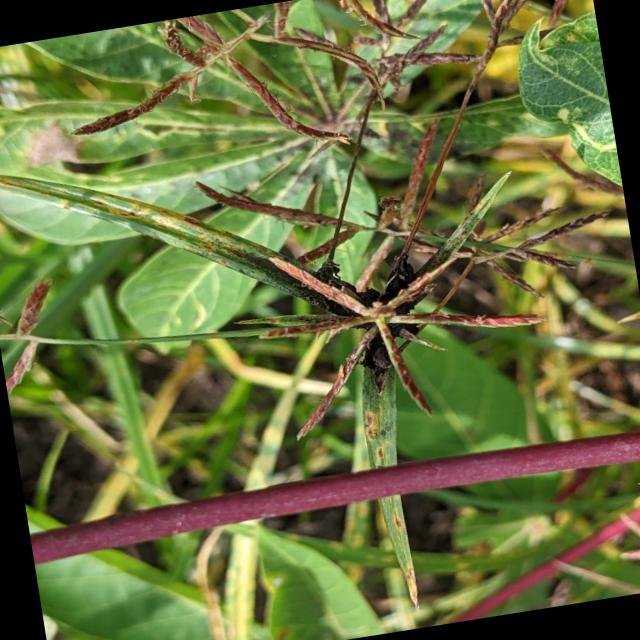cyperus: (47, 0, 640, 488)
